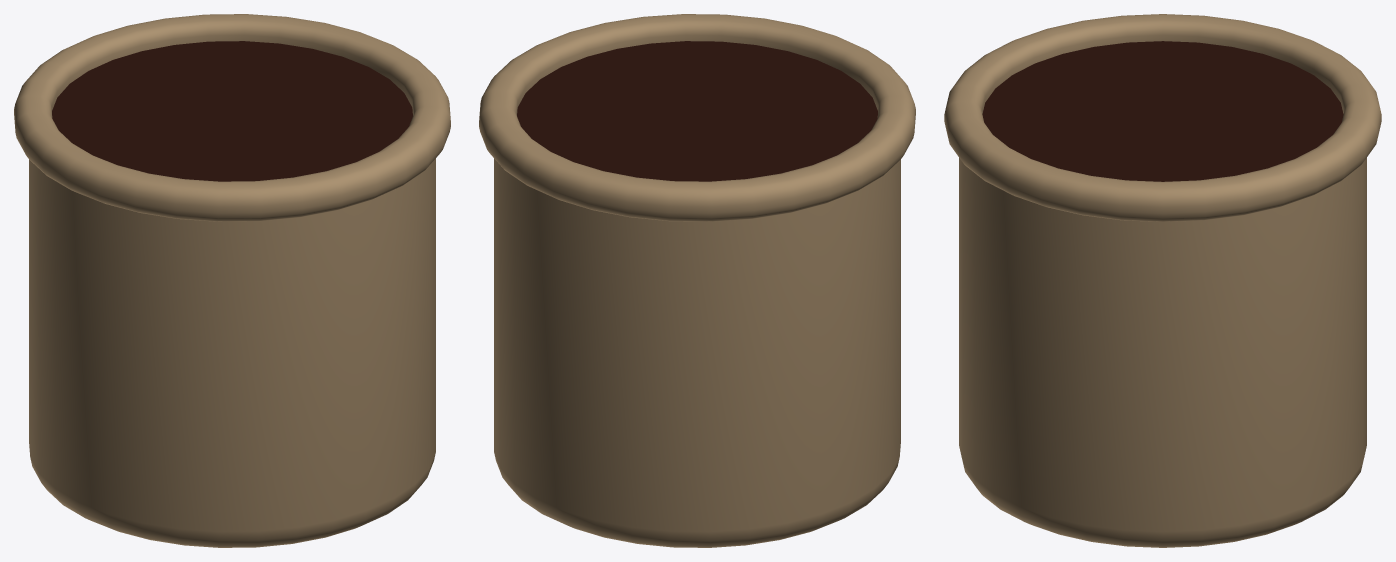
Rendered from trab edu vaso .fbx.
The picture shows the model from 3 angles, left to right: view 1: azimuth 30°, elevation 25°; view 2: azimuth 150°, elevation 25°; view 3: azimuth 270°, elevation 25°; orthographic projection.
Parts seen in each view (by area): view 1: Cilindro.002; view 2: Cilindro.002; view 3: Cilindro.002.
Boxes of the visible parts, <box> form: Cilindro.002: <box>14,14,450,547</box>; Cilindro.002: <box>479,14,915,547</box>; Cilindro.002: <box>944,14,1381,547</box>.
Size of the model in its own units: 177 by 165 by 177.
